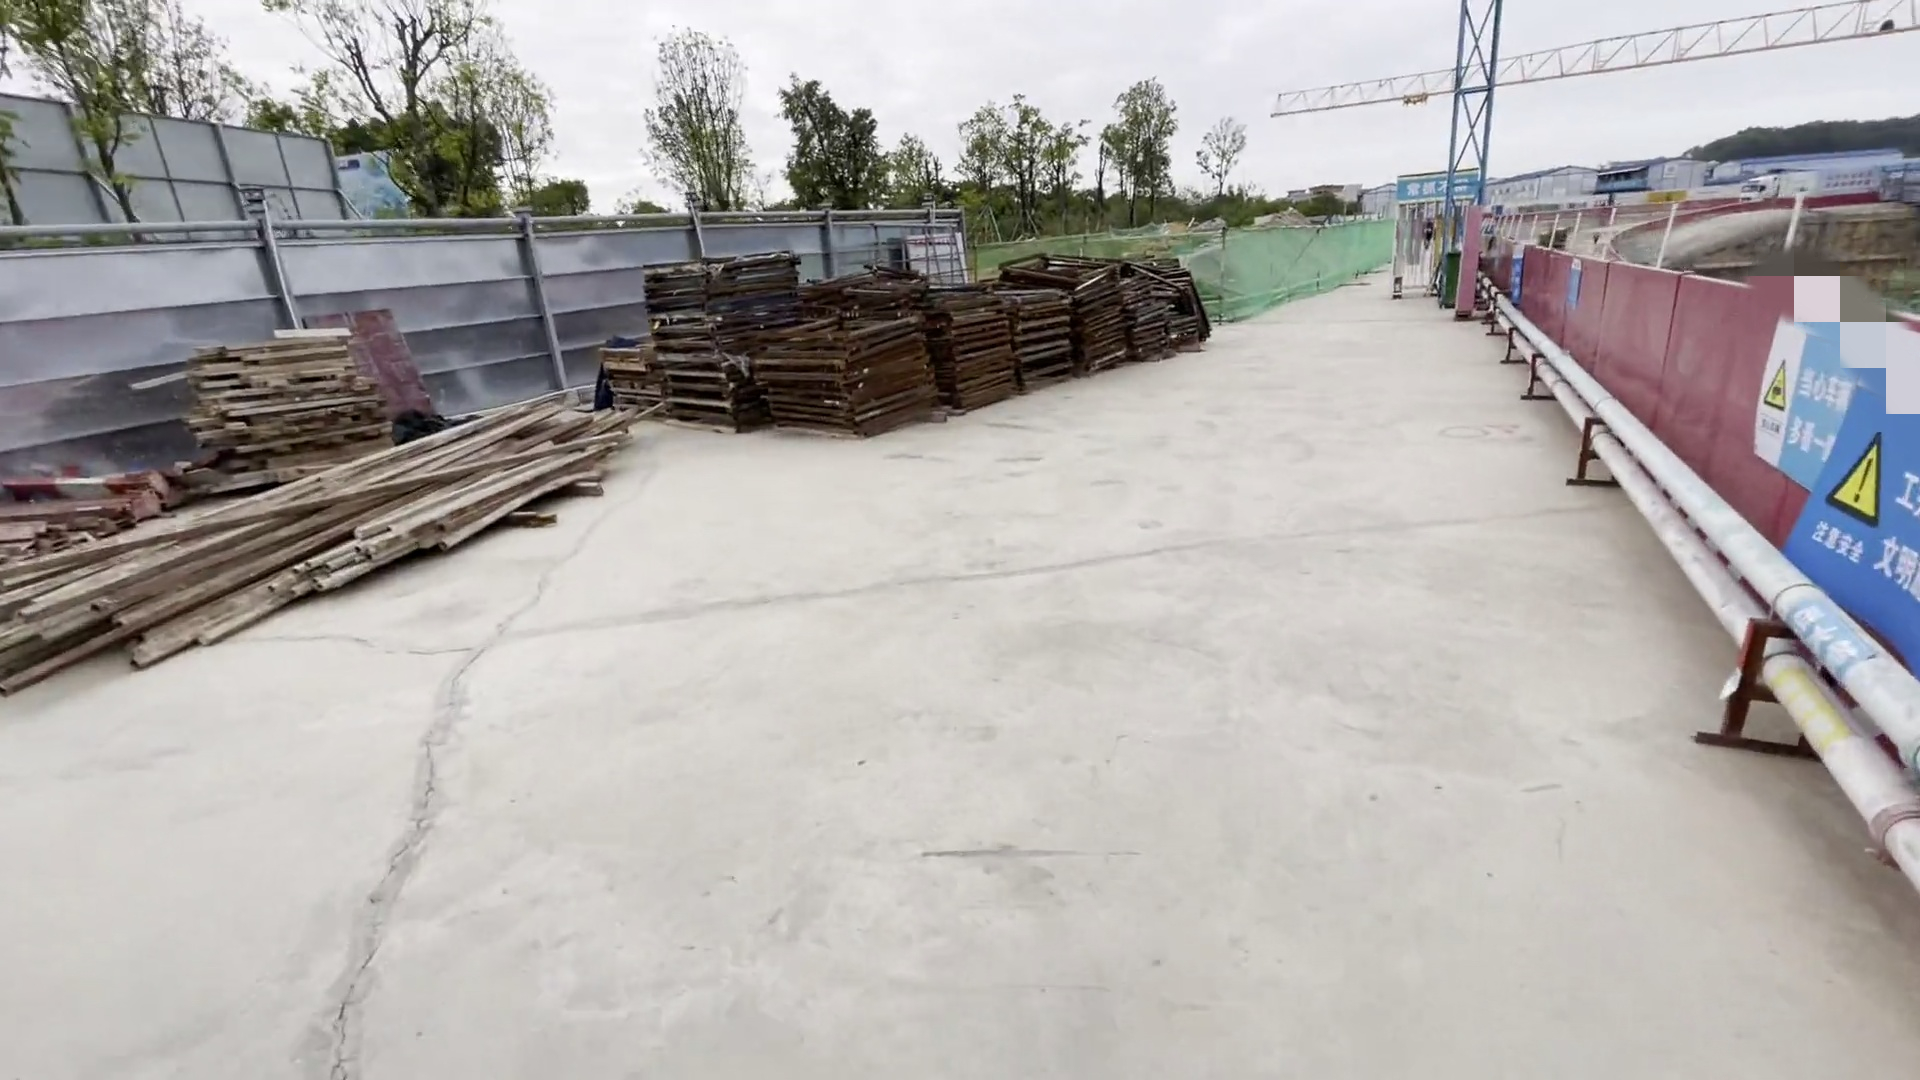fence: (1431, 194, 1870, 645)
slogan: (1762, 309, 1920, 630), (1486, 237, 1600, 328), (1389, 160, 1518, 214)
wood: (29, 410, 622, 657), (199, 342, 398, 467)
